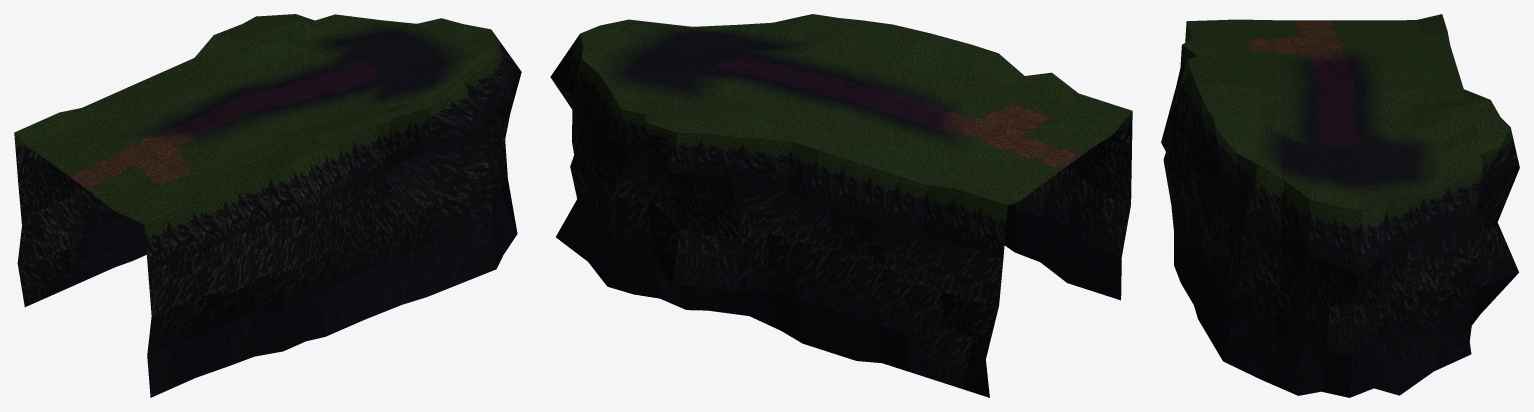
File: cliffs.glb
3 renders of one model, left to right at view 1: azimuth 30°, elevation 25°; view 2: azimuth 150°, elevation 25°; view 3: azimuth 270°, elevation 25°, orthographic. The views are drawn at different scales.
Parts seen in each view (by area): view 1: cliffs-col; view 2: cliffs-col; view 3: cliffs-col.
Boxes of the visible parts, x1,y1,x2,y2 form: cliffs-col: (14, 14, 521, 397); cliffs-col: (550, 14, 1132, 397); cliffs-col: (1161, 14, 1519, 397).
Bounding box in the file's own units: 101 × 43.59 × 65.1.
Materials: 1 (1 with a texture image).
